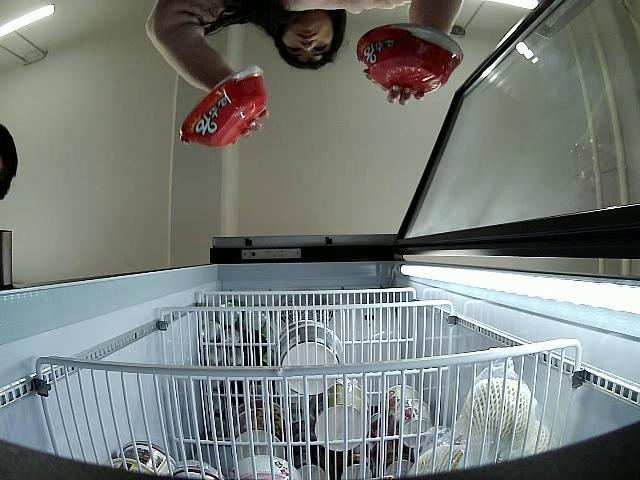00_hand: (386, 83, 426, 107)
10_wangTtukkeong: (356, 24, 463, 93), (179, 67, 267, 148)
